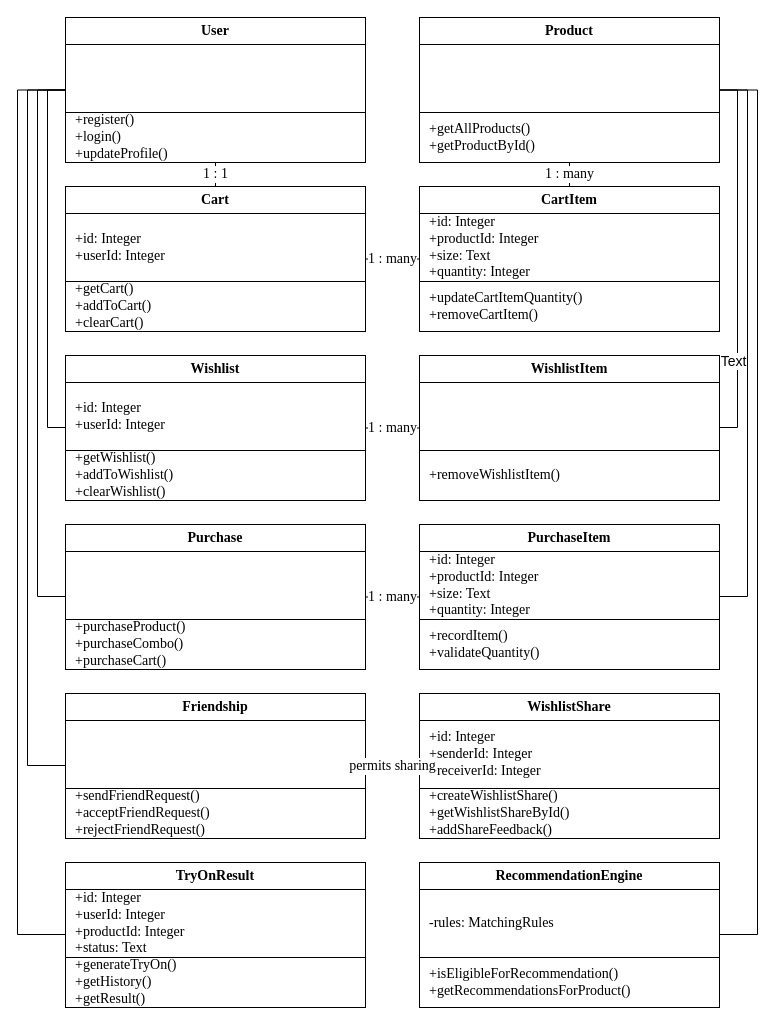
This 776x1025 diagram has some shape labels left out. The shapes that lost their labels are listed below. From the top down, each one's box as (x1, y1, x2, y2) in pixels, then its label:
(64, 44, 366, 112): +id: Integer +username: Text +email: Text +role: Text
(418, 44, 720, 112): +id: Integer +name: Text +category: Text +price: Real +stock: Integer
(418, 382, 720, 450): +id: Integer +productId: Integer
(64, 550, 366, 620): +id: Integer +userId: Integer +purchaseType: Text +totalAmount: Real
(64, 720, 366, 788): +requesterId: Integer +receiverId: Integer +status: Text
